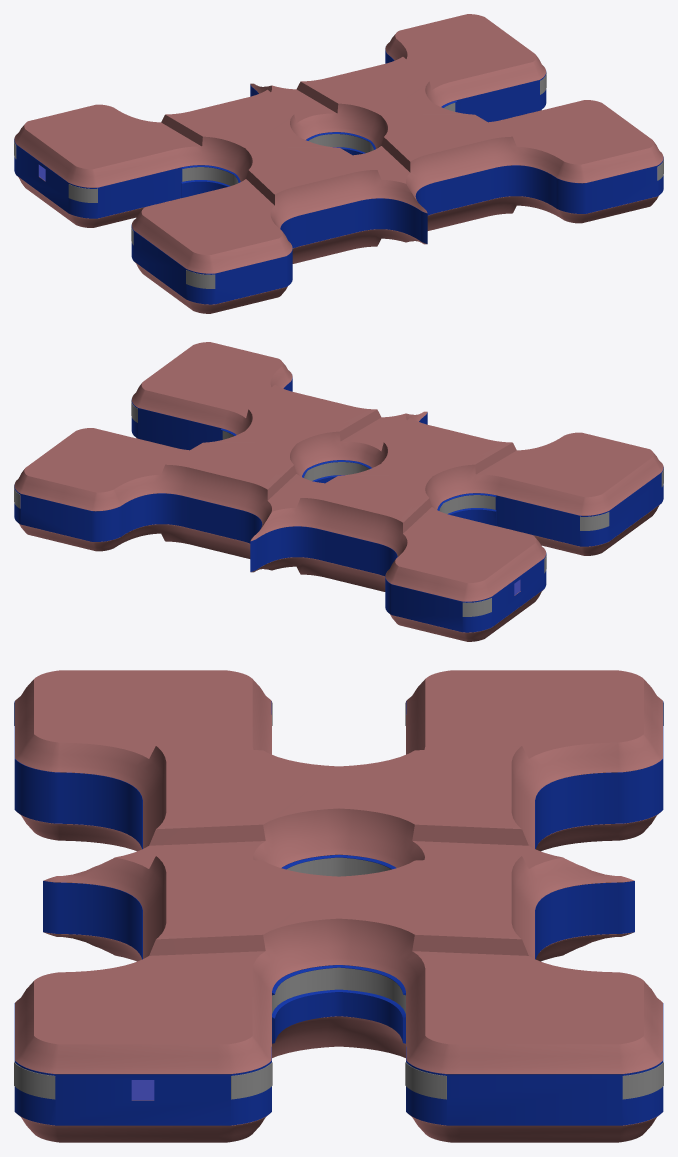
The model's file is SS Module 6.FBX.
3 renders of one model, top to bottom at view 1: azimuth 30°, elevation 25°; view 2: azimuth 150°, elevation 25°; view 3: azimuth 270°, elevation 25°, orthographic. The views are drawn at different scales.
Visible parts, largest first — view 1: X mod; view 2: X mod; view 3: X mod.
Boxes of the visible parts, <box> form: X mod: <box>14,14,663,313</box>; X mod: <box>14,342,663,641</box>; X mod: <box>14,670,663,1142</box>.
Bounding box in the file's own units: 161 × 24.8 × 114.
